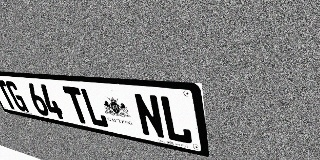4: (37, 84, 65, 120)
6: (24, 82, 51, 117)
G: (4, 81, 29, 113)
L: (158, 95, 193, 145), (79, 88, 110, 129)
N: (132, 93, 166, 140)
T: (62, 86, 91, 125), (0, 80, 18, 110)
